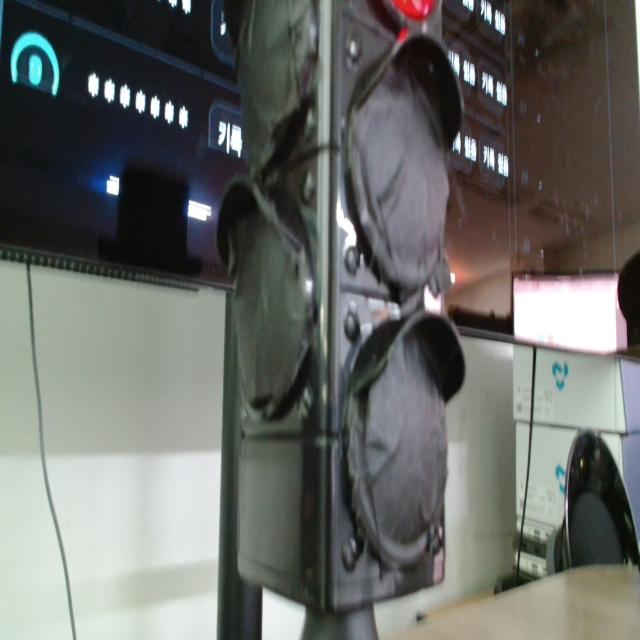red_light: (391, 0, 436, 21)
